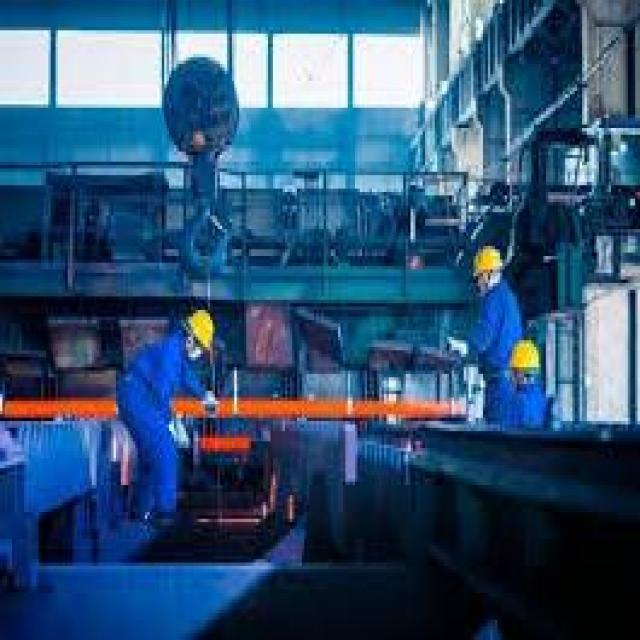Safety-Helmet: (176, 303, 222, 357), (505, 334, 546, 381), (469, 239, 507, 283)
